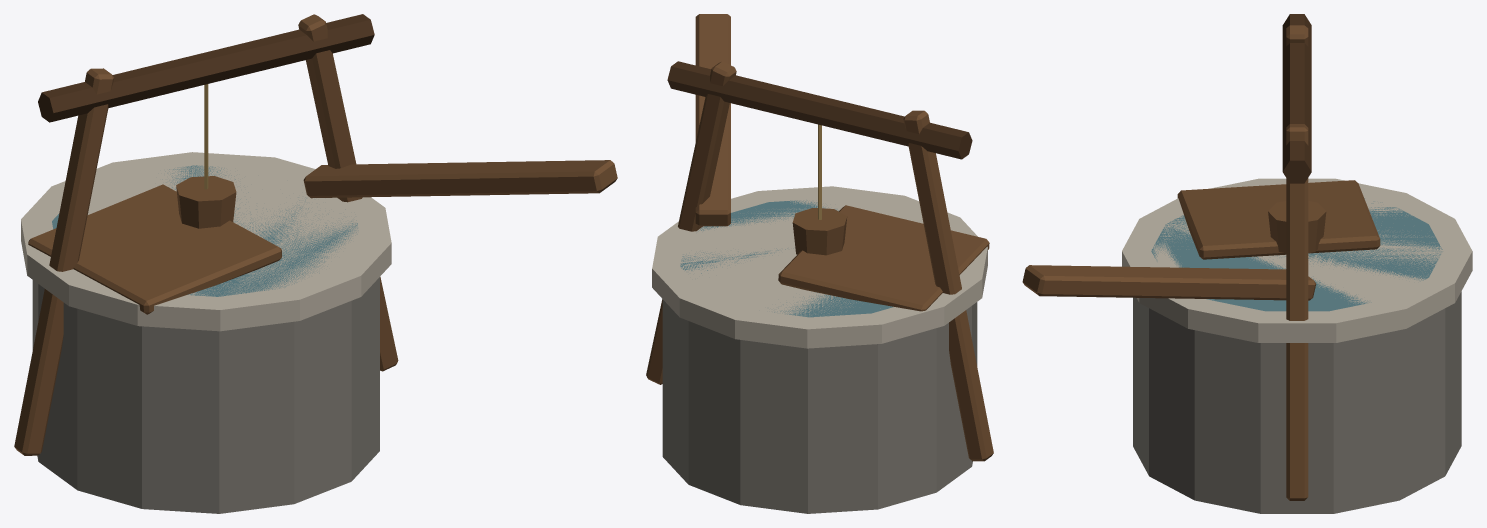
File: cistern.fbx
3 views of the same model, side by side, from view 1: azimuth 30°, elevation 25°; view 2: azimuth 150°, elevation 25°; view 3: azimuth 270°, elevation 25° (orthographic). The views are drawn at different scales.
Visible parts, largest first — view 1: Building; view 2: Building; view 3: Building.
Part boxes in pixels (x1=…): Building: x1=14, y1=14, x2=617, y2=513; Building: x1=646, y1=14, x2=993, y2=513; Building: x1=1022, y1=14, x2=1472, y2=513.
Size of the model in its own units: 1.37 by 1.23 by 1.12.
